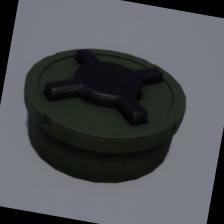PMN2: (0, 21, 204, 204)
